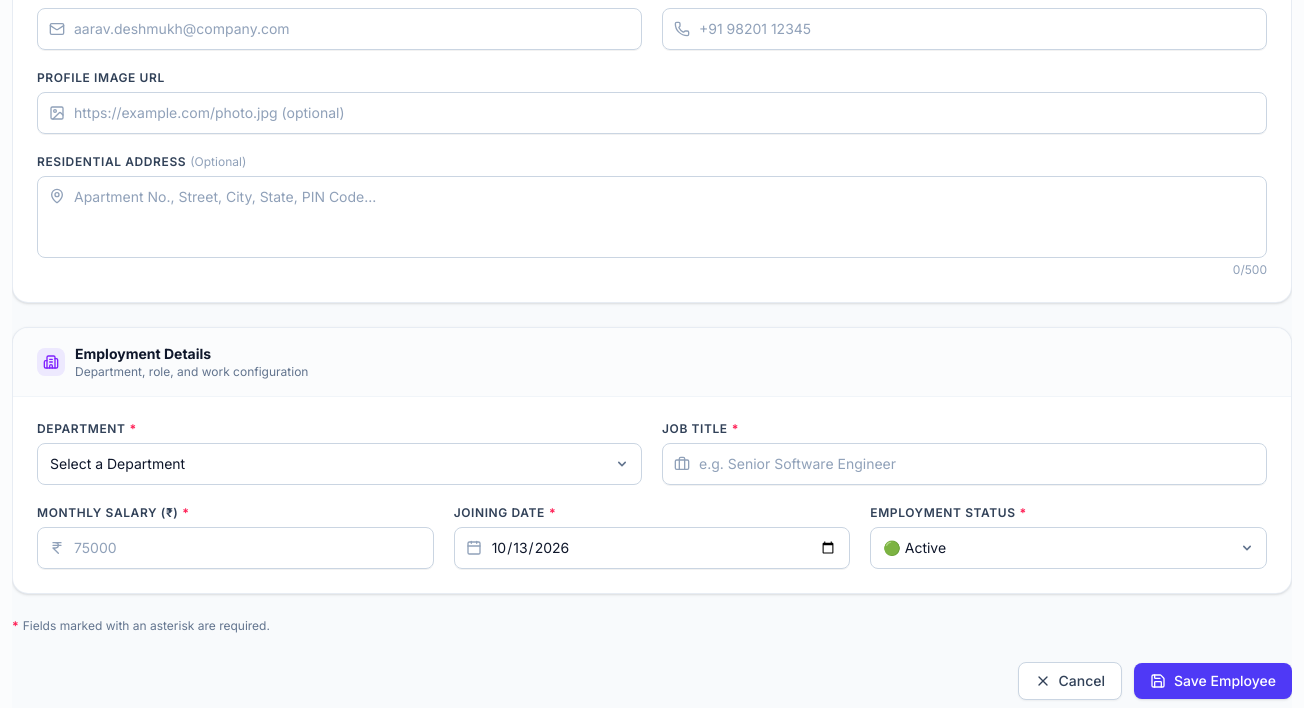
Test case: EmployeeForm Component › displays inline validation errors when submitting empty required fields
(page scrolled)
Click the button "Save Employee".
click(1213, 681)  # box [1134, 663, 1292, 699]
(page scrolled)
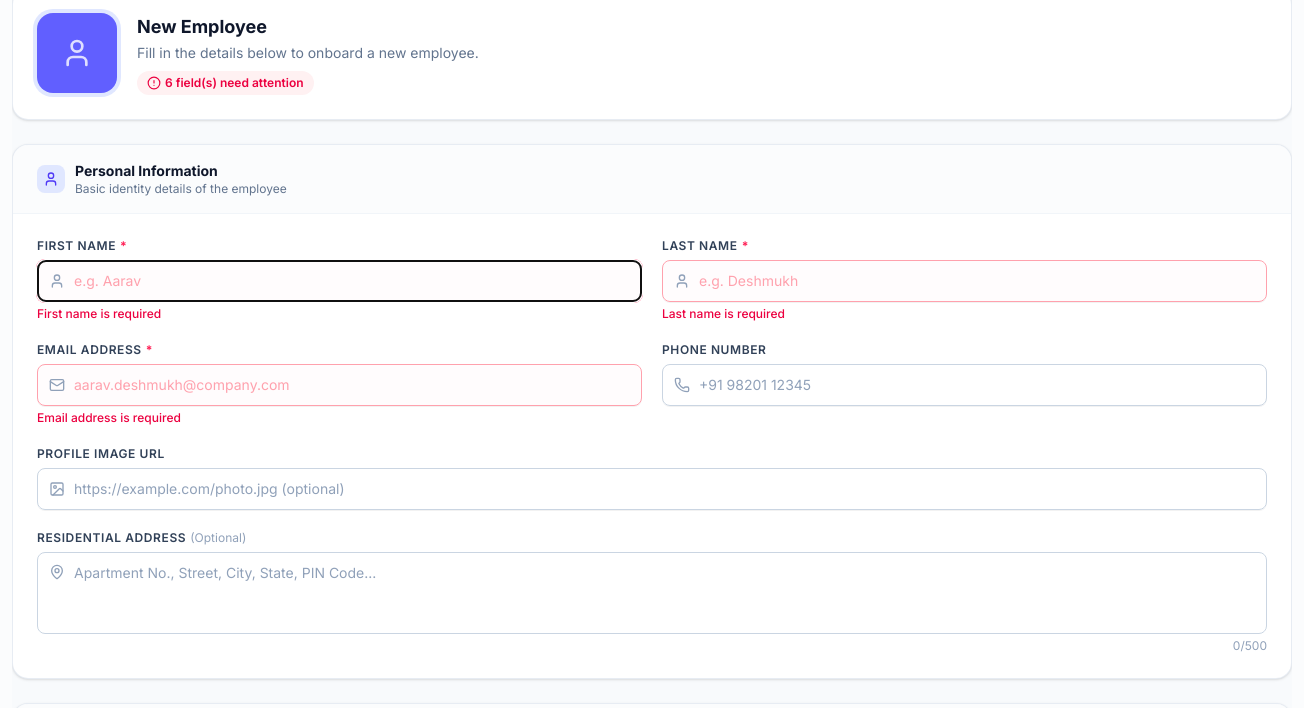
Now the text "First name is required" is shown, box [37, 306, 161, 321]
Now the text "Last name is required" is shown, box [662, 306, 785, 321]
Now the text "Email address is required" is shown, box [37, 410, 181, 425]
